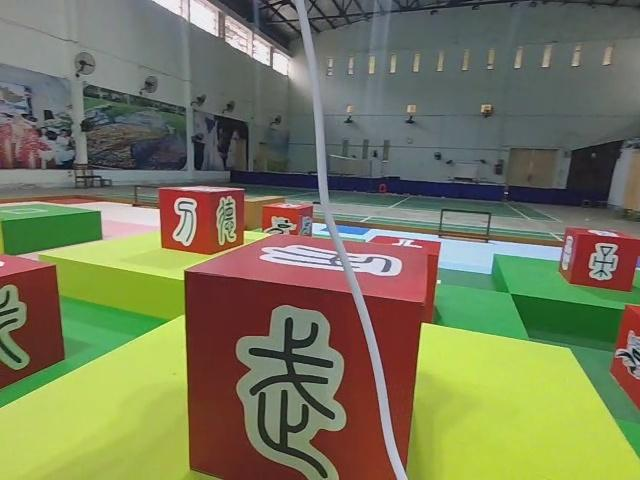R1: (607, 301, 640, 409), (264, 202, 313, 240)
R2 Fake: (185, 231, 426, 480), (0, 250, 66, 392), (155, 183, 247, 256)
R2 Real: (560, 224, 640, 294)
